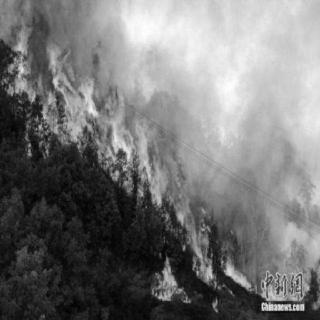Fire: (3, 17, 169, 196)
